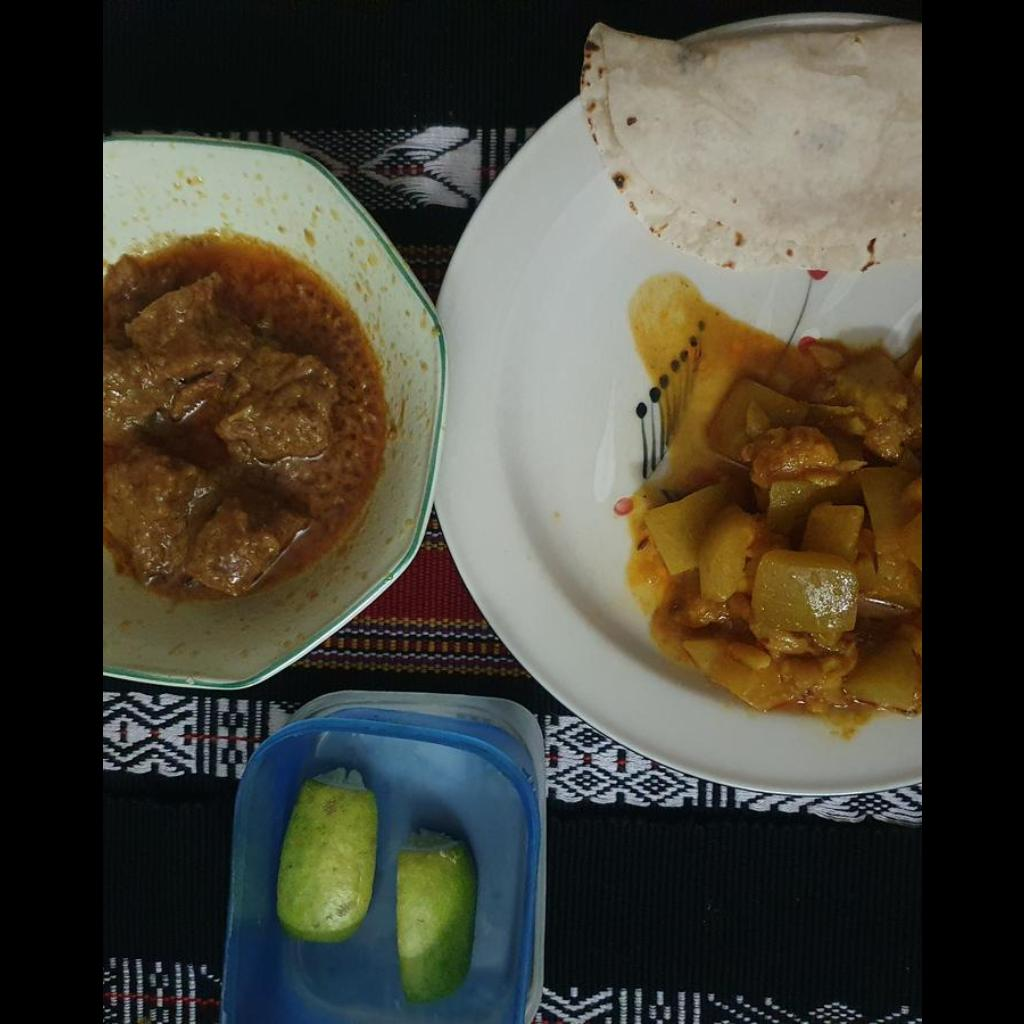beef: (102, 271, 331, 596)
lemon: (272, 767, 480, 1004)
ruti: (578, 26, 920, 274)
vegetable: (654, 334, 920, 724)
